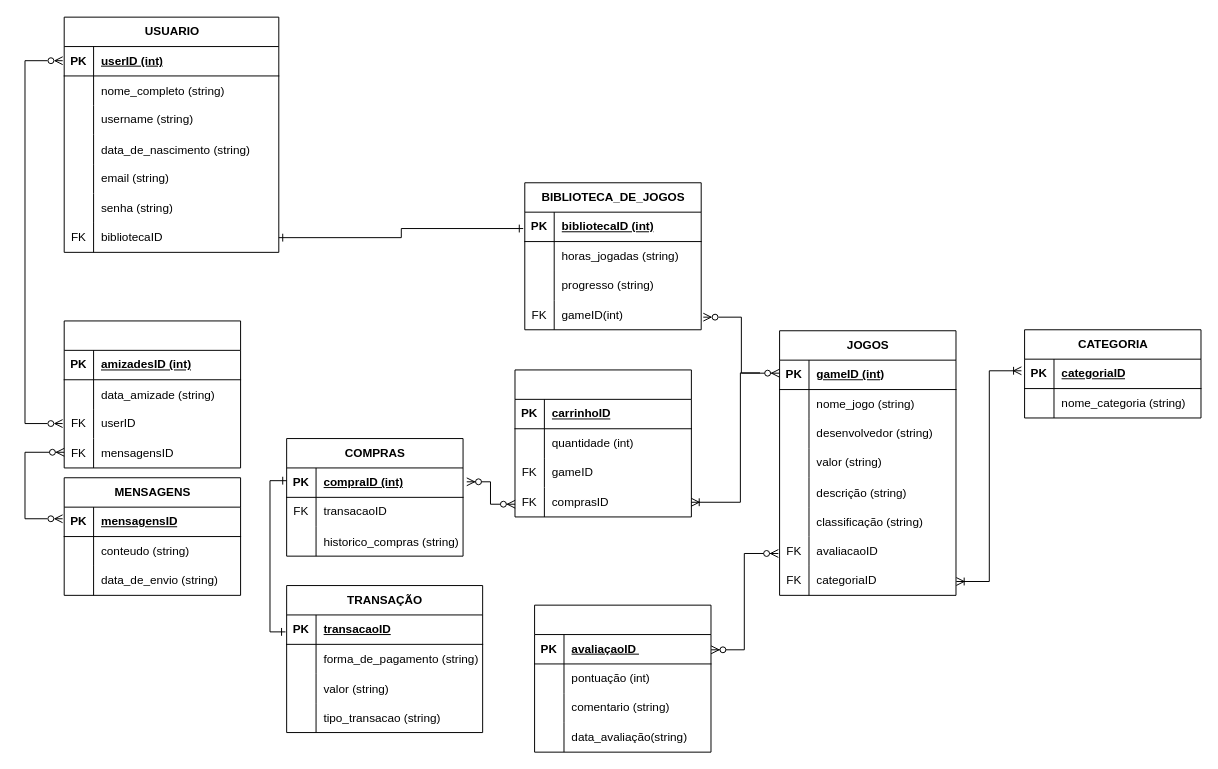
This 1218x769 diagram has some shape labels left out. Each missing label, with the box of its shape:
Amigos: (63, 320, 241, 468)
AVALIAÇÂO: (534, 604, 711, 752)
CARRINHO_DE_COMPRAS: (514, 369, 691, 517)
